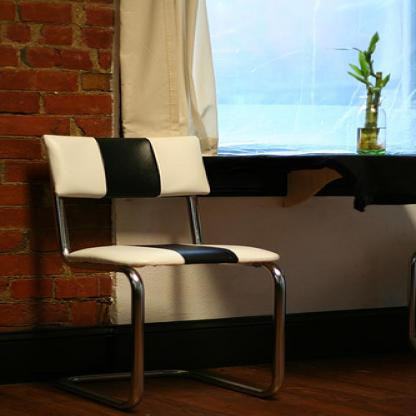chair: (40, 135, 287, 409)
